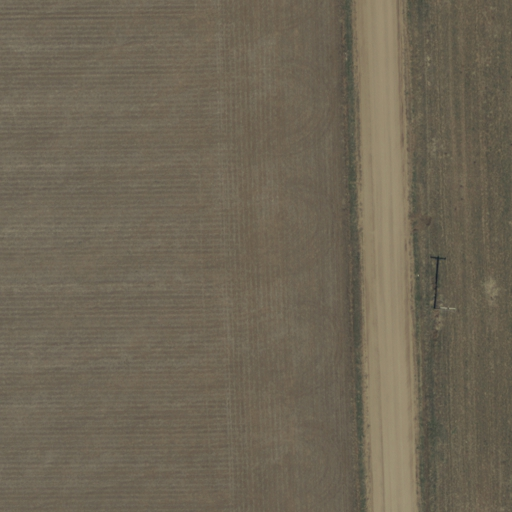DT: (425, 296, 465, 320)
